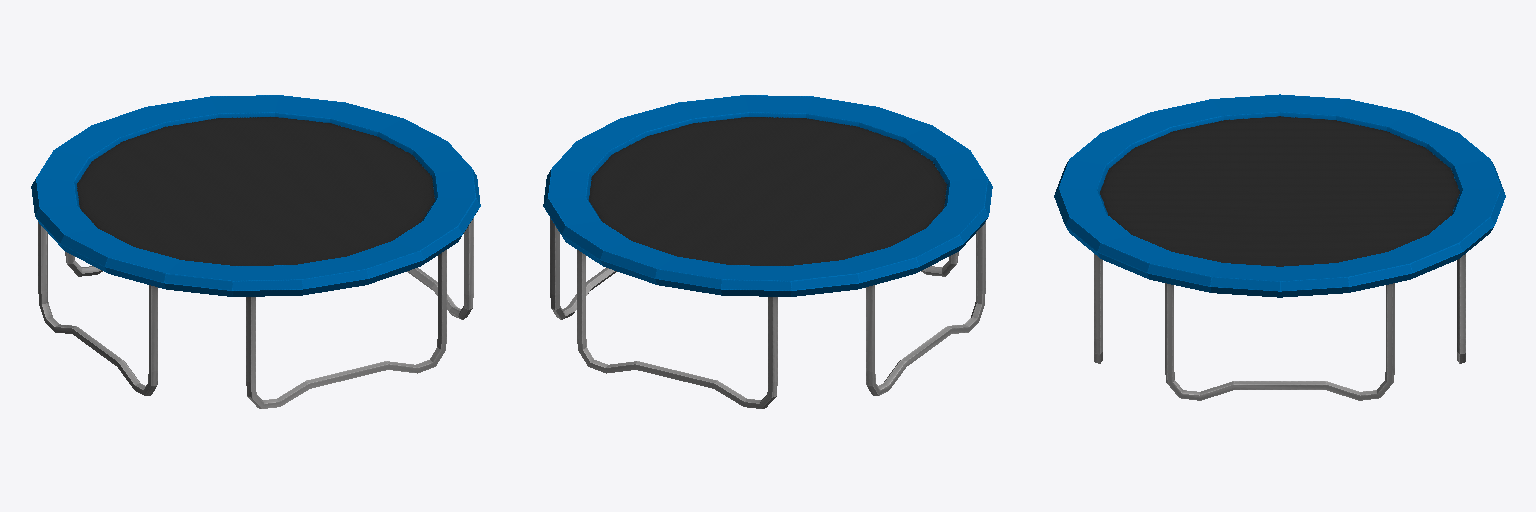
The picture shows the model from 3 angles: view 1: azimuth 30°, elevation 25°; view 2: azimuth 150°, elevation 25°; view 3: azimuth 270°, elevation 25°; orthographic projection.
Visible parts, largest first — view 1: Trampoline_Mesh; view 2: Trampoline_Mesh; view 3: Trampoline_Mesh.
Boxes of the visible parts, box(x1,y1,x2,y2) form: Trampoline_Mesh: box(31, 95, 480, 408); Trampoline_Mesh: box(543, 95, 992, 408); Trampoline_Mesh: box(1054, 94, 1505, 400).
Size of the model in its own units: 10.76 by 3.57 by 10.76.
Materials: 1 (1 with a texture image).